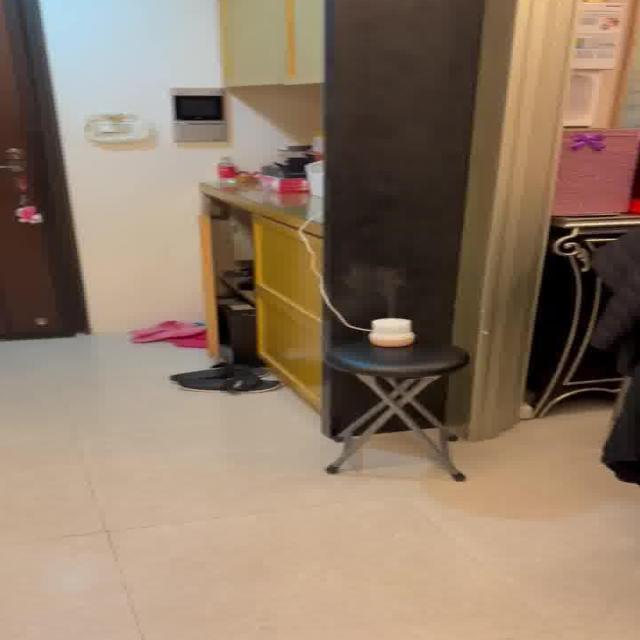fire: (340, 260, 408, 311)
